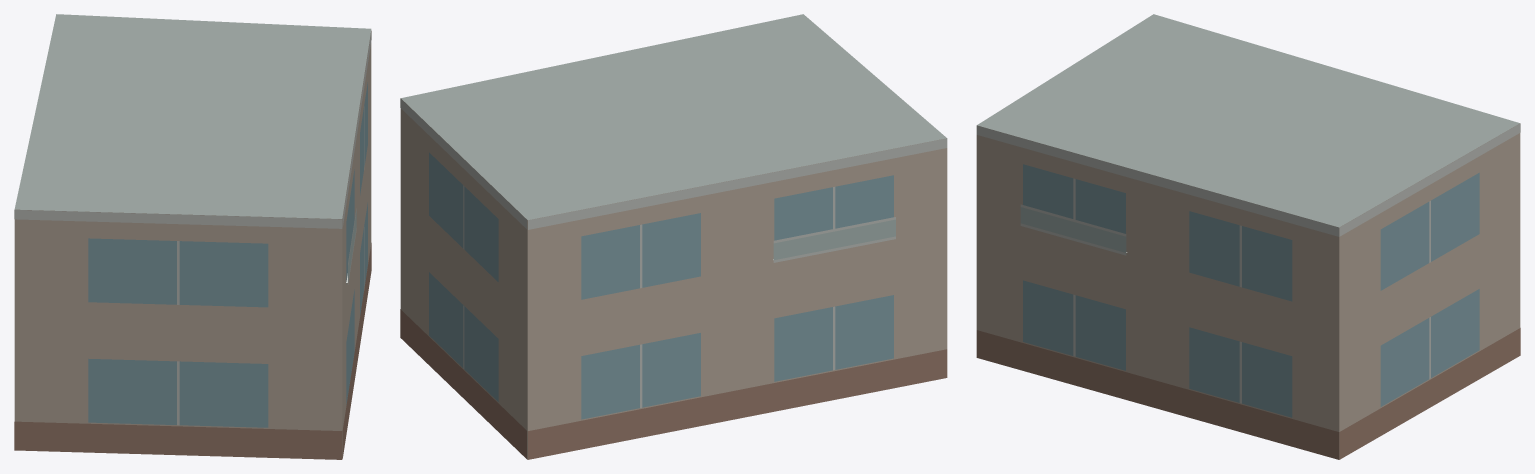
File: survey-upis-32614034.glb
3 views of the same model, side by side, from view 1: azimuth 30°, elevation 25°; view 2: azimuth 150°, elevation 25°; view 3: azimuth 270°, elevation 25° (orthographic). The views are drawn at different scales.
Parts seen in each view (by area): view 1: survey-upis-32614034.tmp; view 2: survey-upis-32614034.tmp; view 3: survey-upis-32614034.tmp.
Part boxes in pixels (x1,y1,x2,y2): survey-upis-32614034.tmp: (14,14,371,459); survey-upis-32614034.tmp: (400,14,947,459); survey-upis-32614034.tmp: (976,14,1520,459).
Size of the model in its own units: 9.86 by 5 by 10.61.
